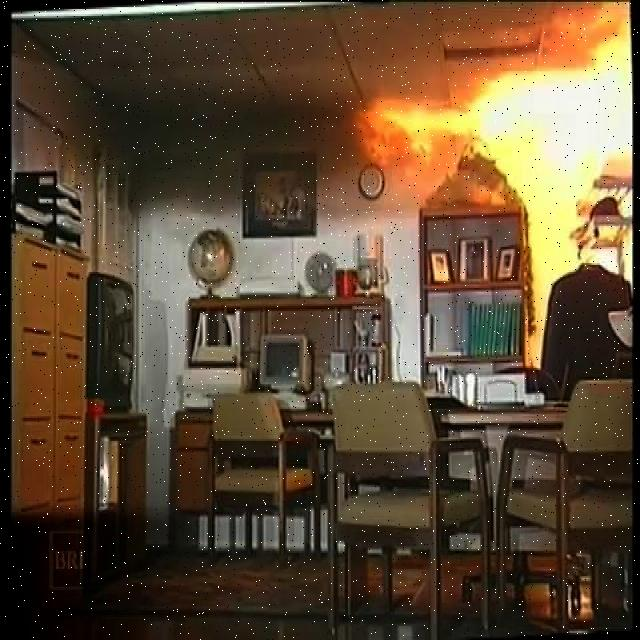fire: (368, 28, 640, 202)
smoke: (112, 88, 344, 212)
